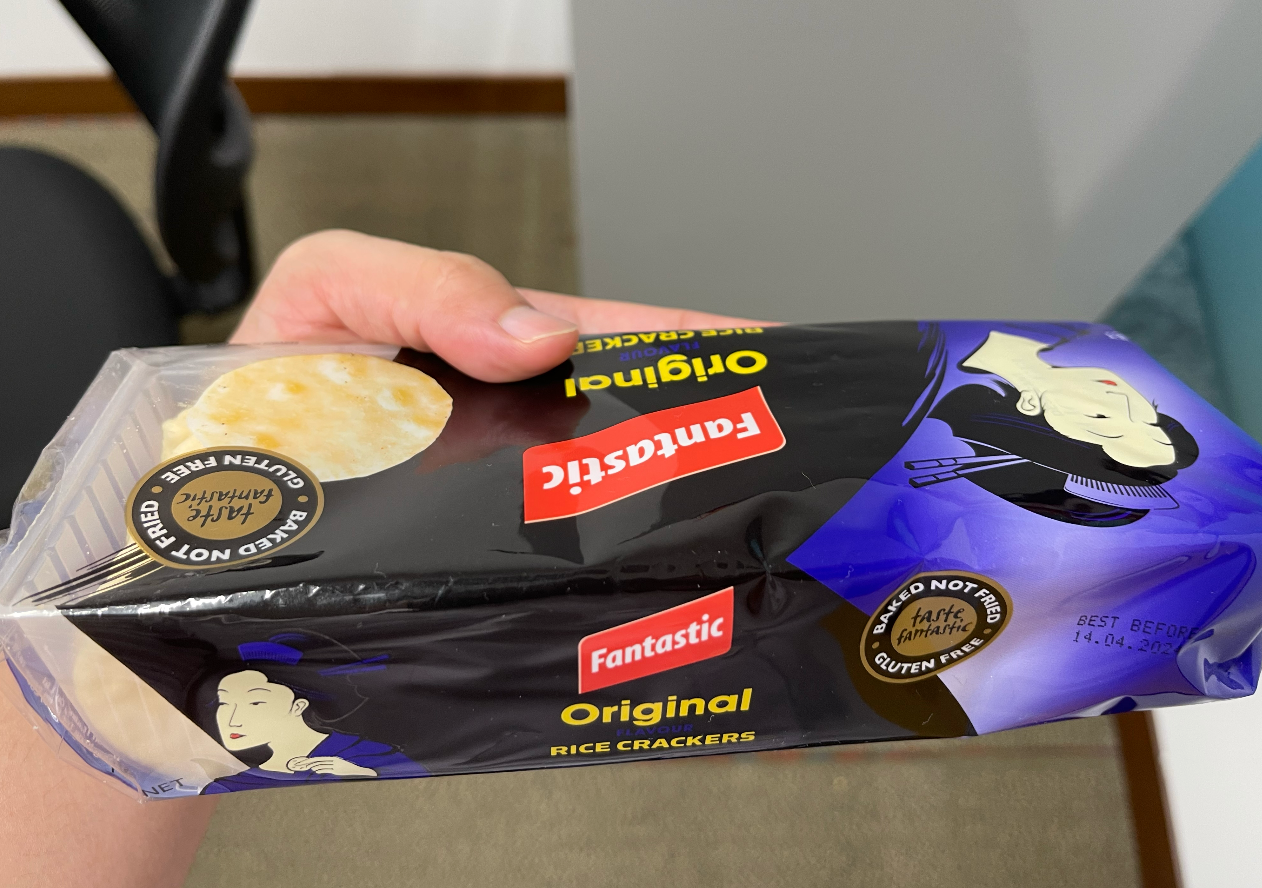crackers_100g-199g: (105, 349, 1150, 757)
